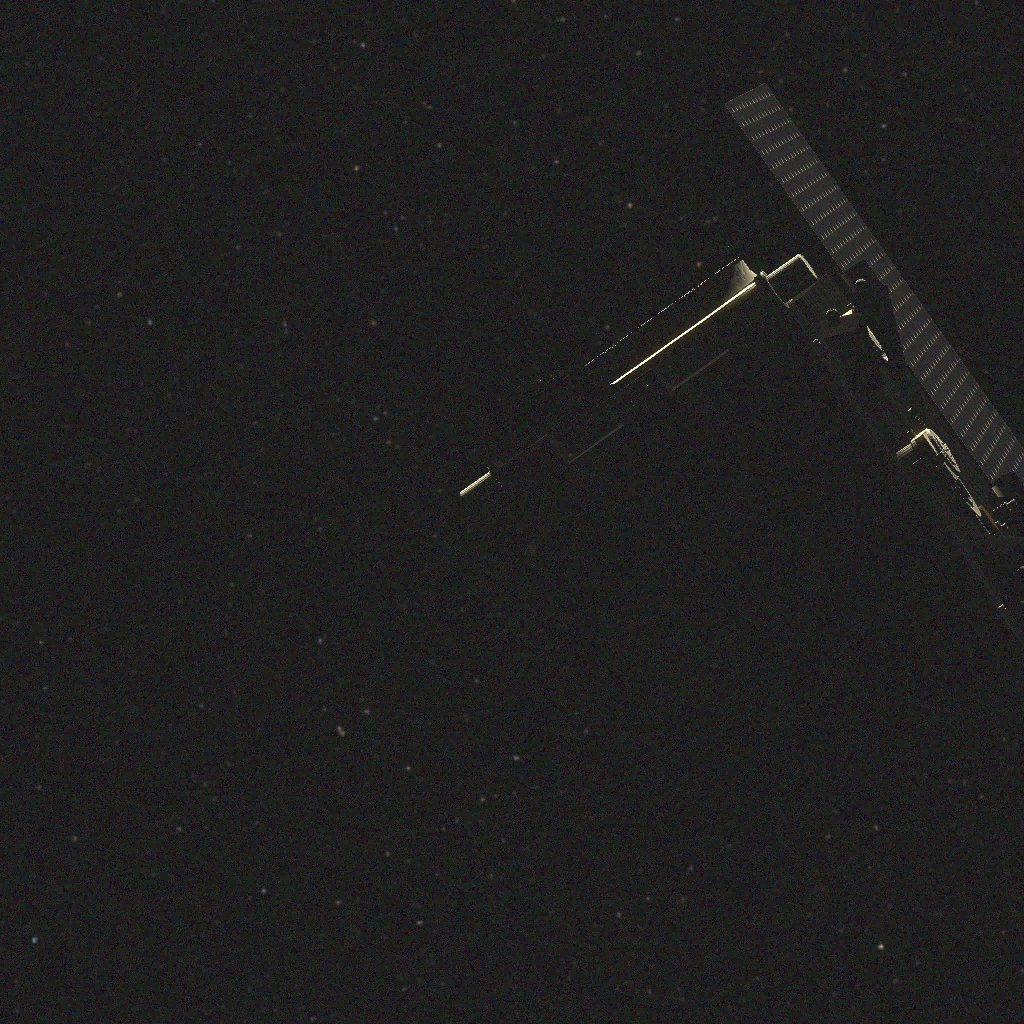proba_3_csc: (460, 83, 1024, 844)
